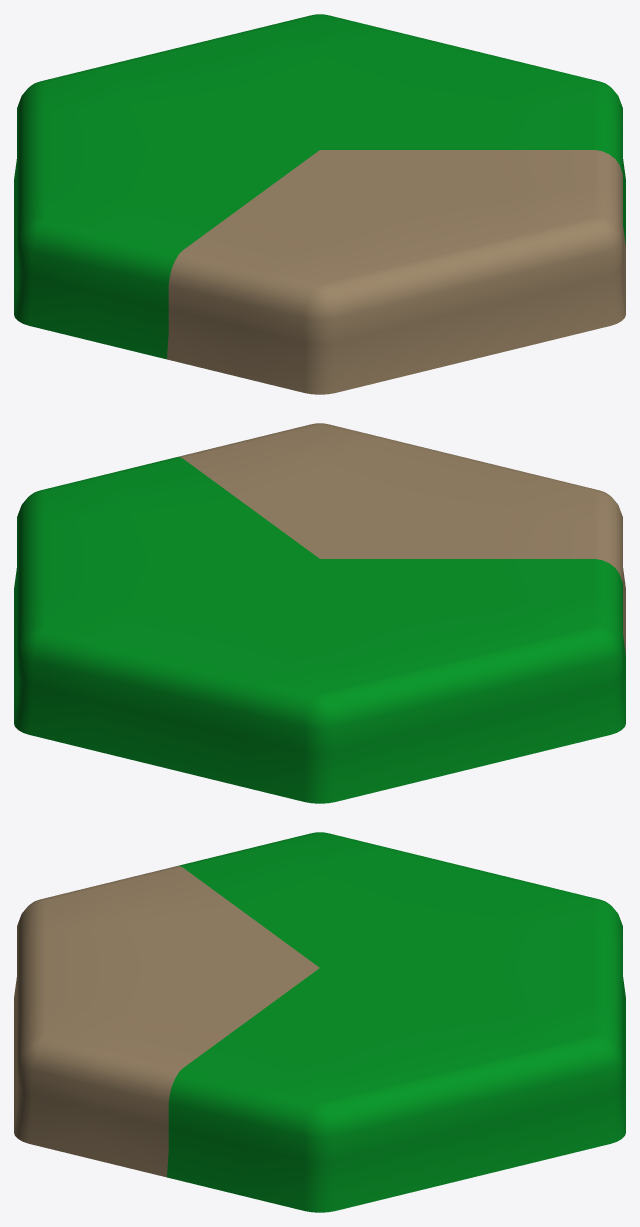
Rendered from C_P_esquina.fbx.
3 views of the same model, one above another, from view 1: azimuth 30°, elevation 25°; view 2: azimuth 150°, elevation 25°; view 3: azimuth 270°, elevation 25° (orthographic).
Parts seen in each view (by area): view 1: Cylinder; view 2: Cylinder; view 3: Cylinder.
Part boxes in pixels (x1,y1,x2,y2): Cylinder: (14,14,625,394); Cylinder: (14,423,625,803); Cylinder: (14,832,625,1212).
Bounding box in the file's own units: 207 × 31.94 × 182.
